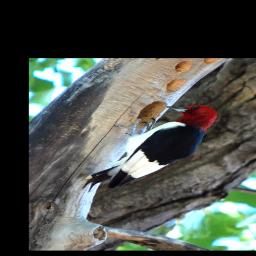Woodpecker: (77, 104, 215, 192)
